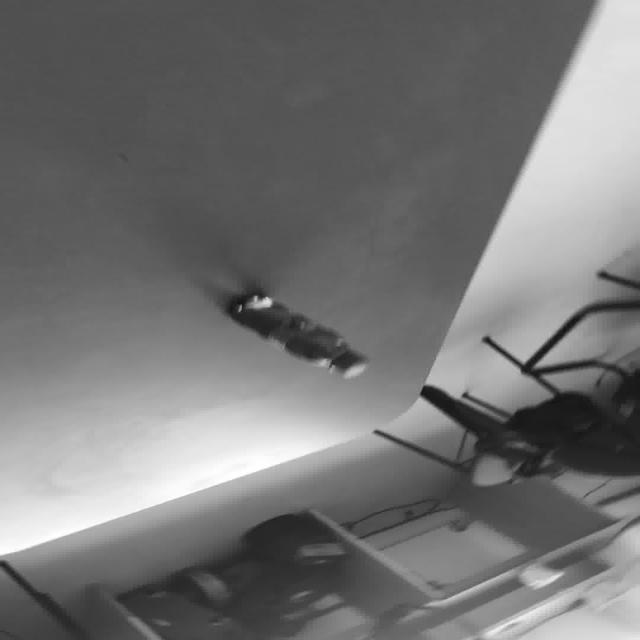guarana: (224, 292, 369, 379)
